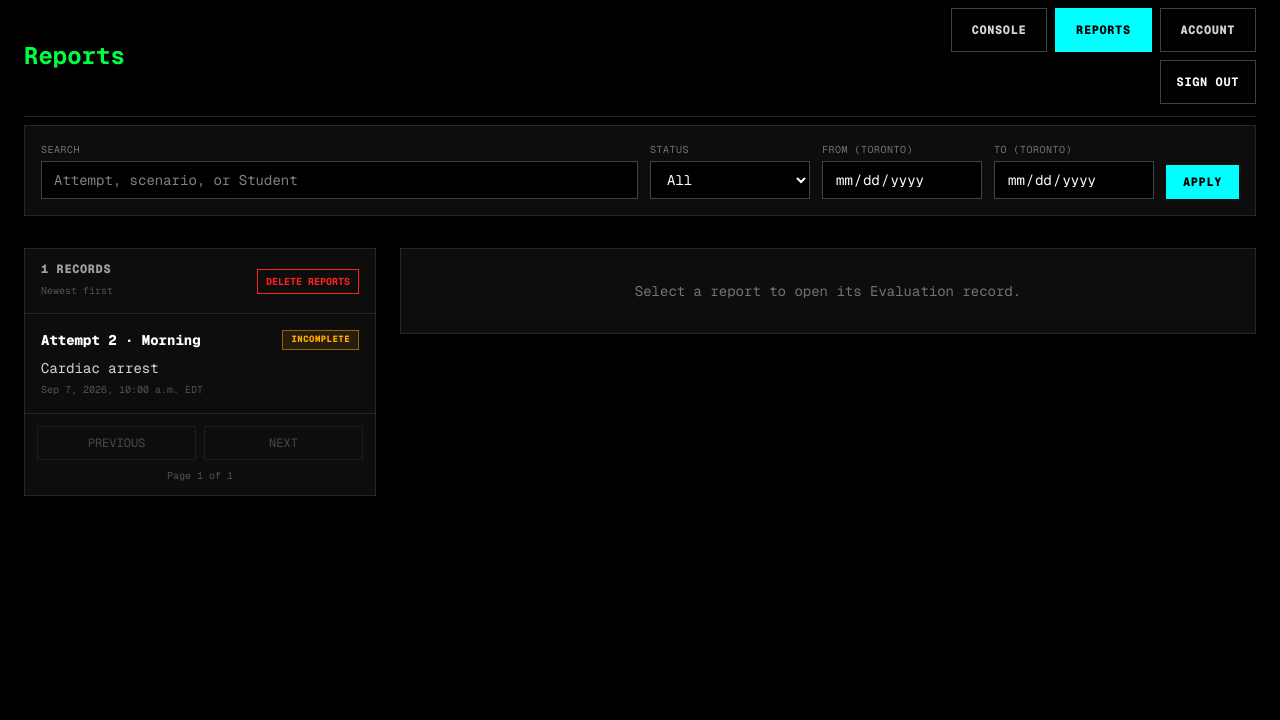
Test: ReportsPage › clears page-scoped selection when filters are applied
This screenshot has width=1280, height=720.
Click the button "Delete reports".
click(308, 281)  # box [257,268,359,294]
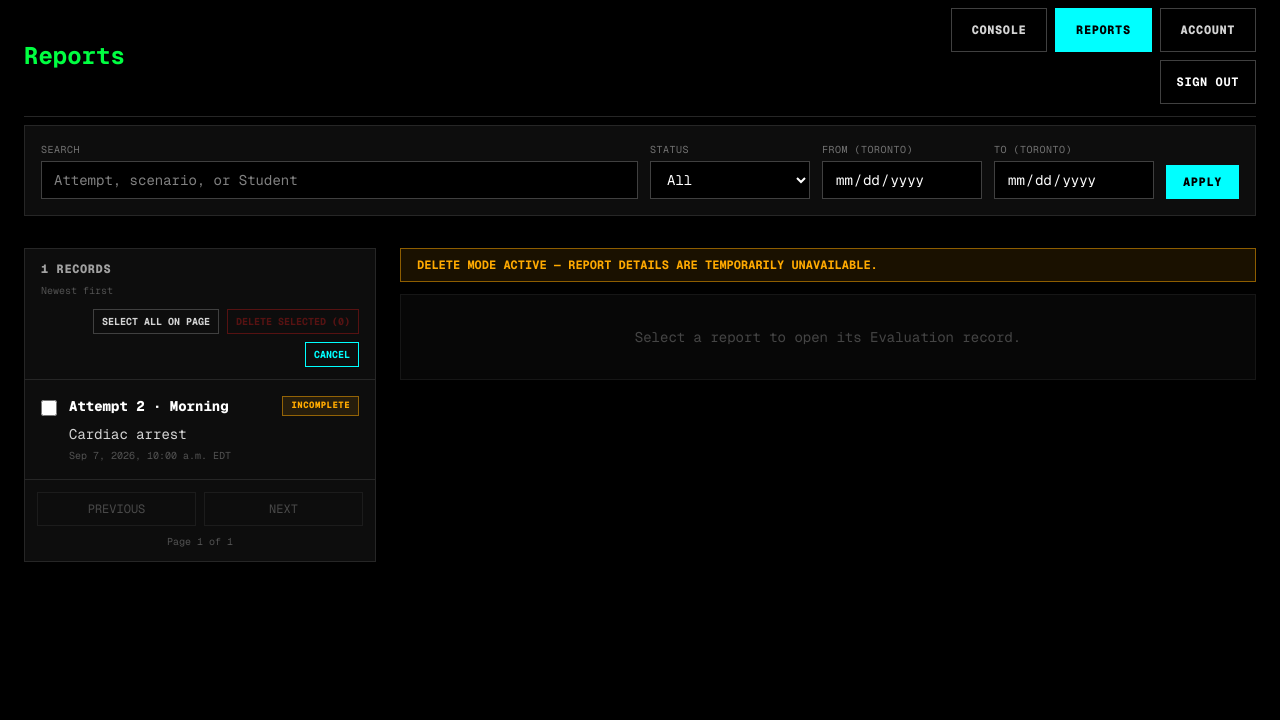
Click the checkbox named "Select Attempt 2 · Morning — Cardiac arrest".
click(49, 408)  # box [41,400,57,416]
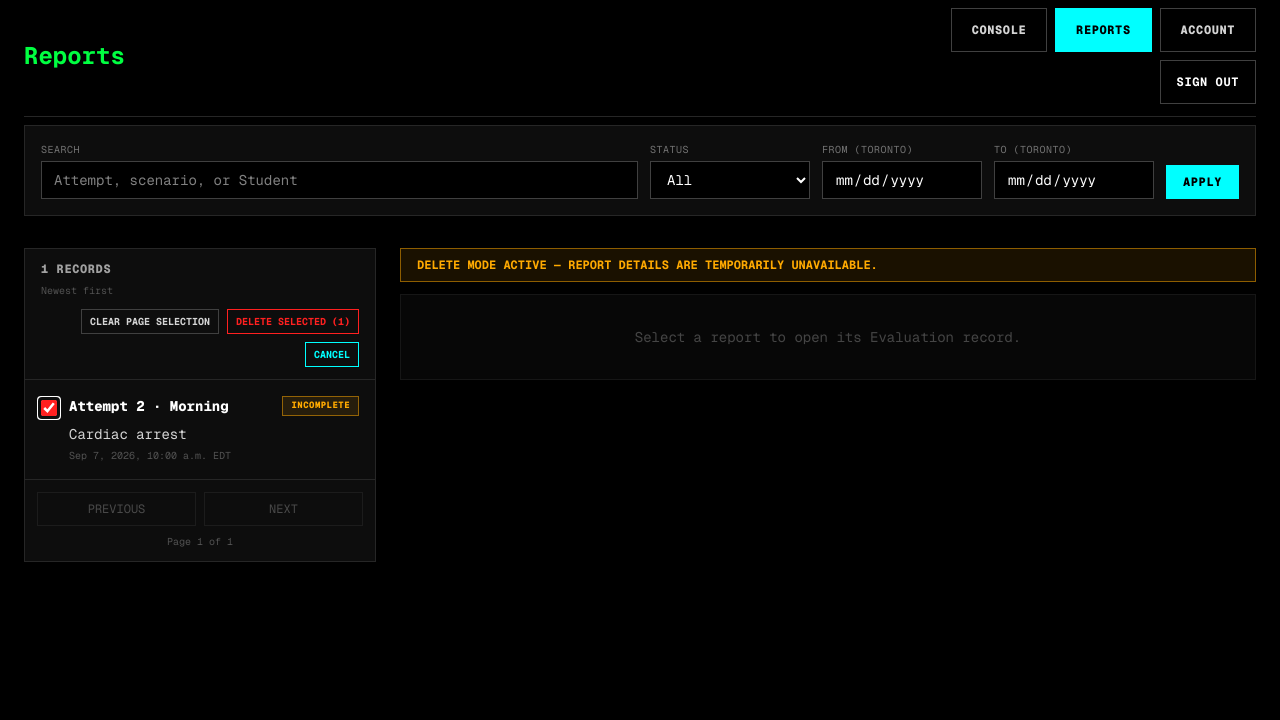
Result: the button "Delete selected (1)" is enabled at [227,309,359,334]
Click the button "Apply".
click(1202, 182)  # box [1166,165,1239,199]
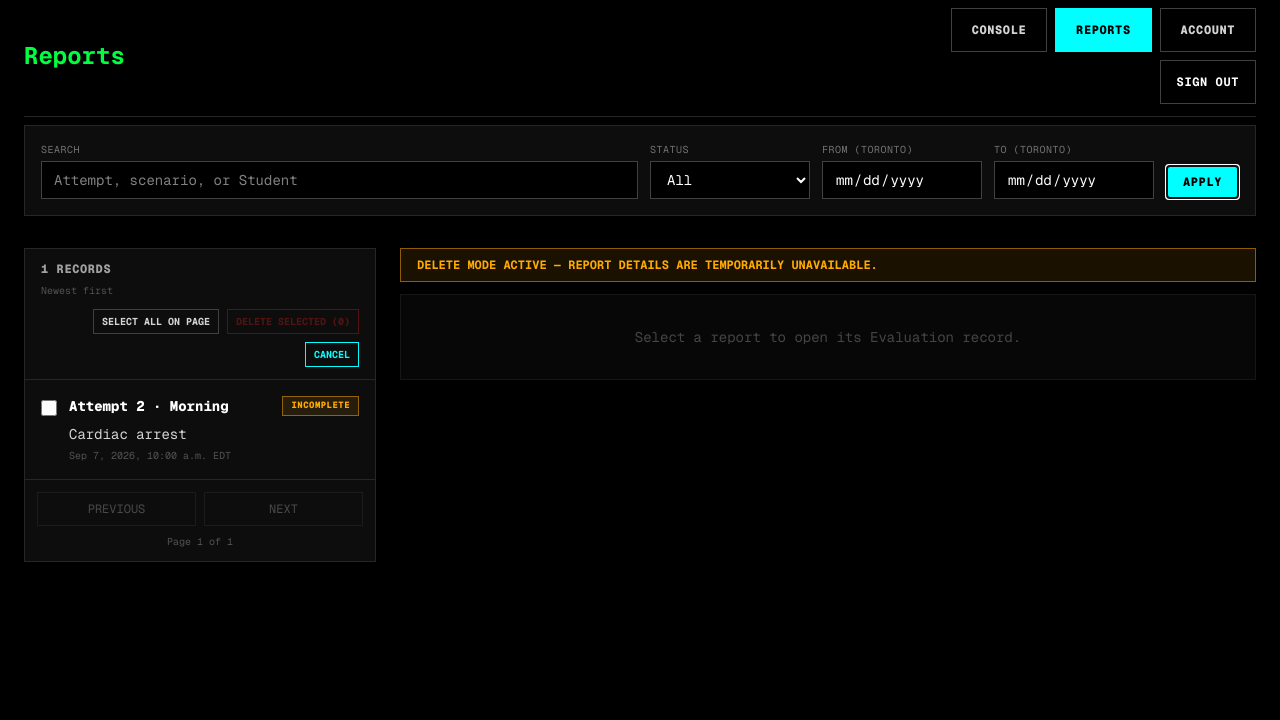
Result: the button "Delete selected (0)" is disabled at [227,309,359,334]
